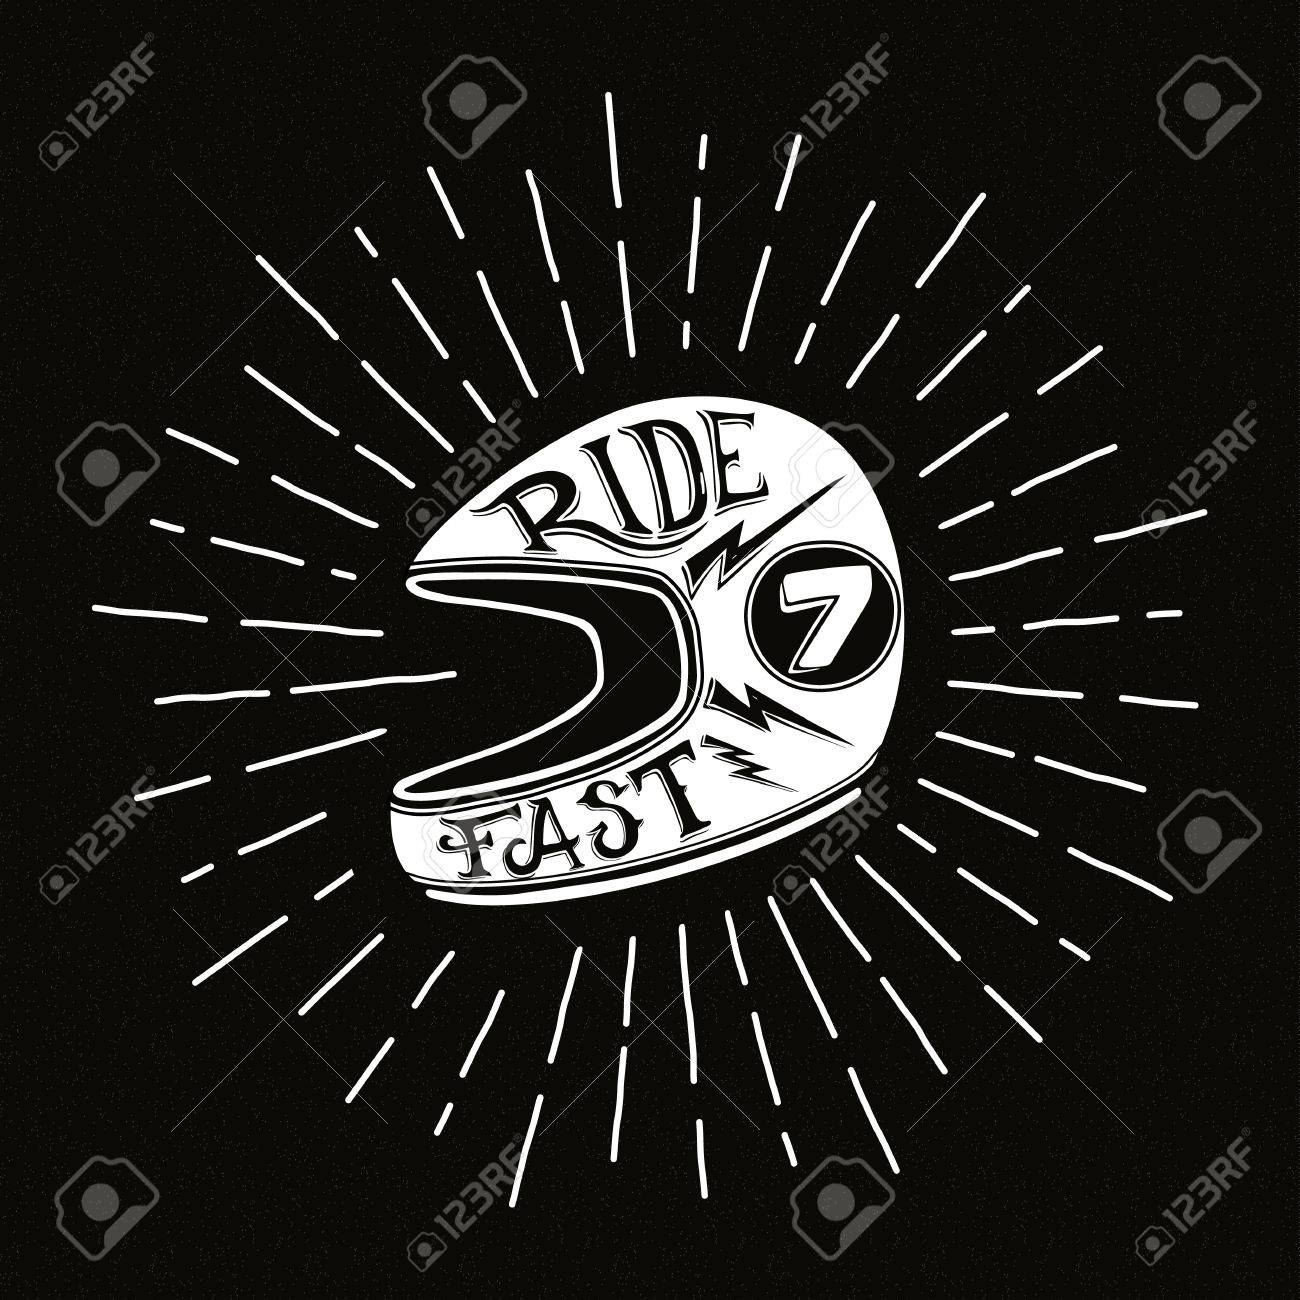with_helmet: (420, 390, 899, 873)
